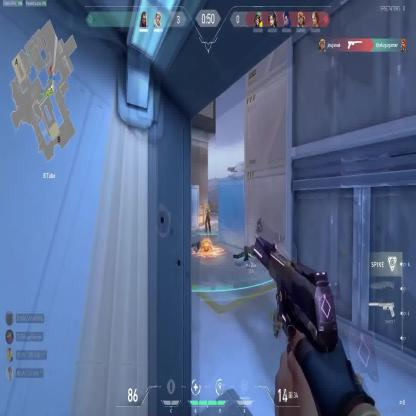enemy: (205, 203, 211, 233)
enemy_head: (206, 204, 210, 210)
